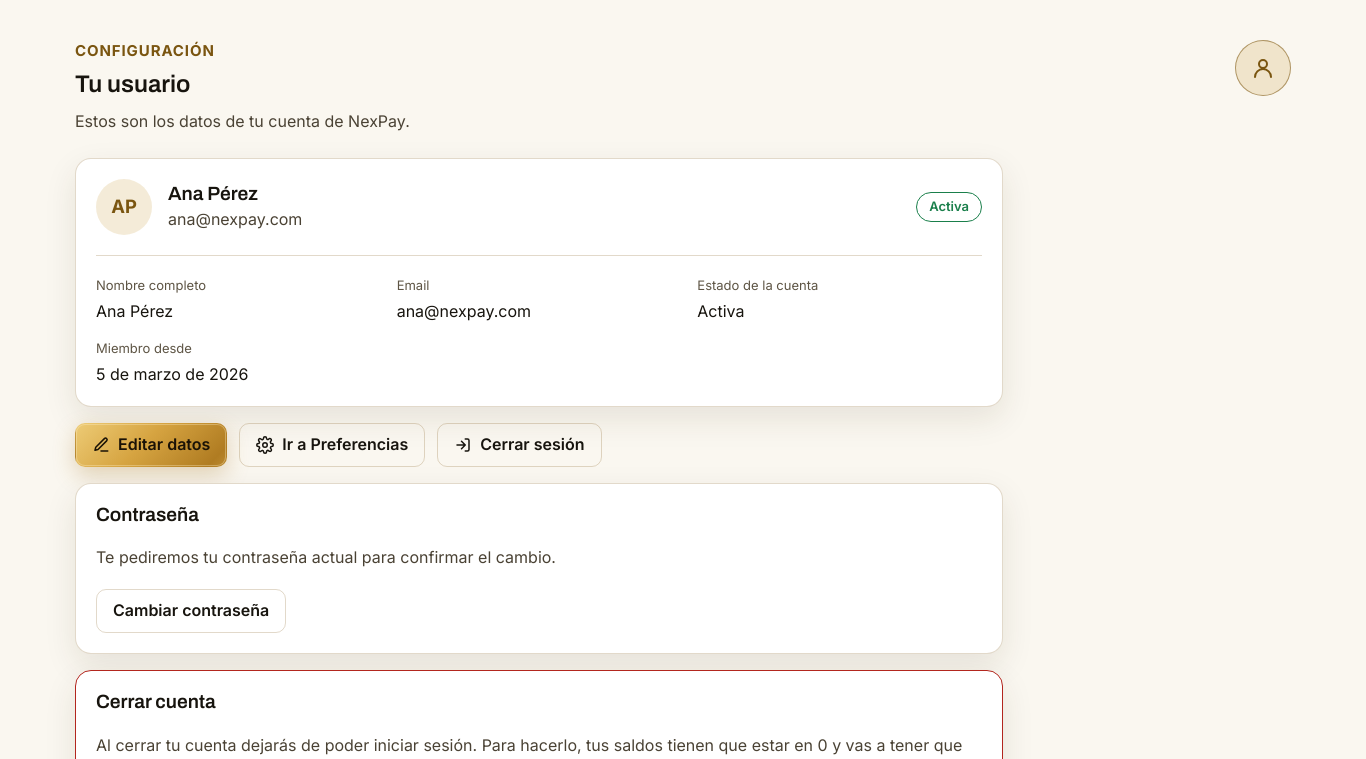
Test: Usuario: editar datos › el formulario arranca con los datos actuales y "Guardar" deshabilitado hasta que haya cambios
The image size is (1366, 759).
Click the button "Editar datos" at (151,444), box [75,422,227,466]
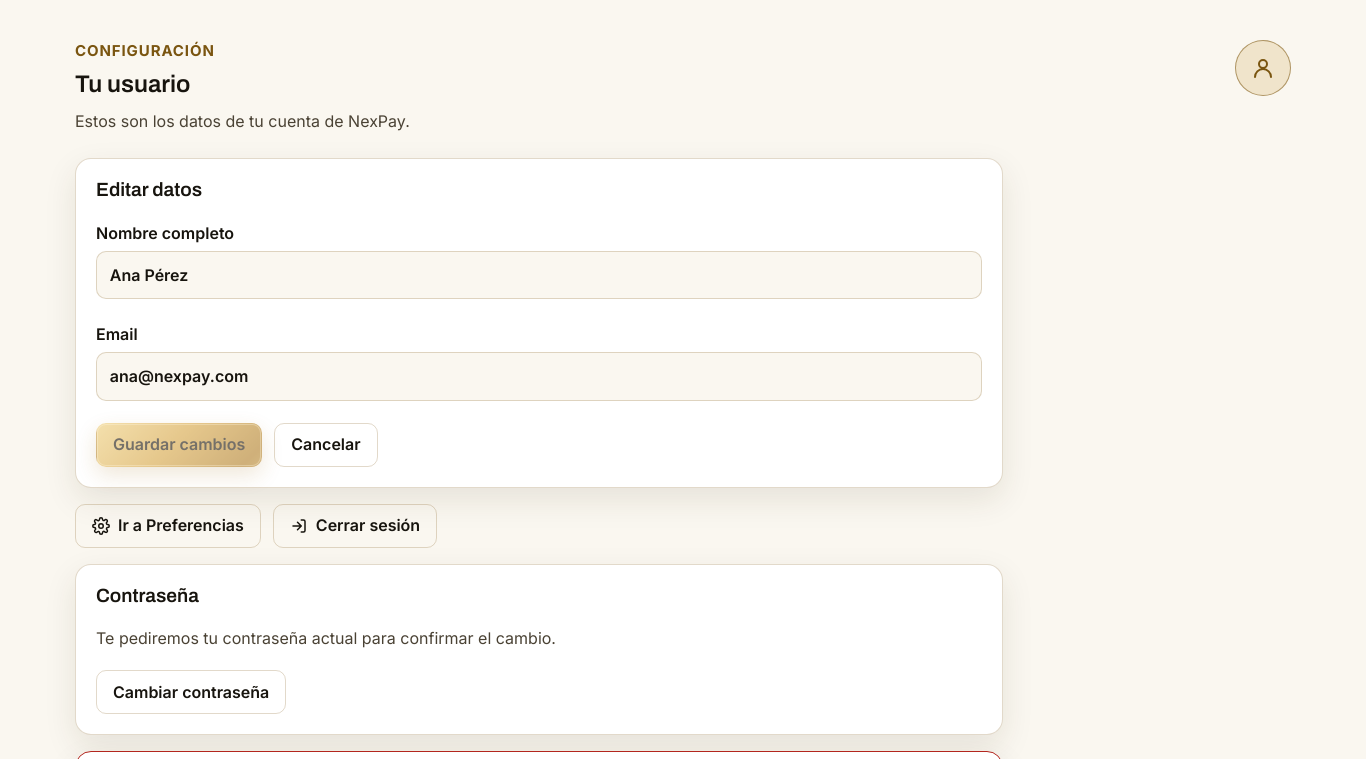
Expected: the field labelled "Nombre completo" holds "Ana Pérez", [96,251,982,300]
Expected: the field labelled "Email" holds "ana@nexpay.com", [96,352,982,401]
Expected: the button "Guardar cambios" is disabled, [96,423,262,467]
